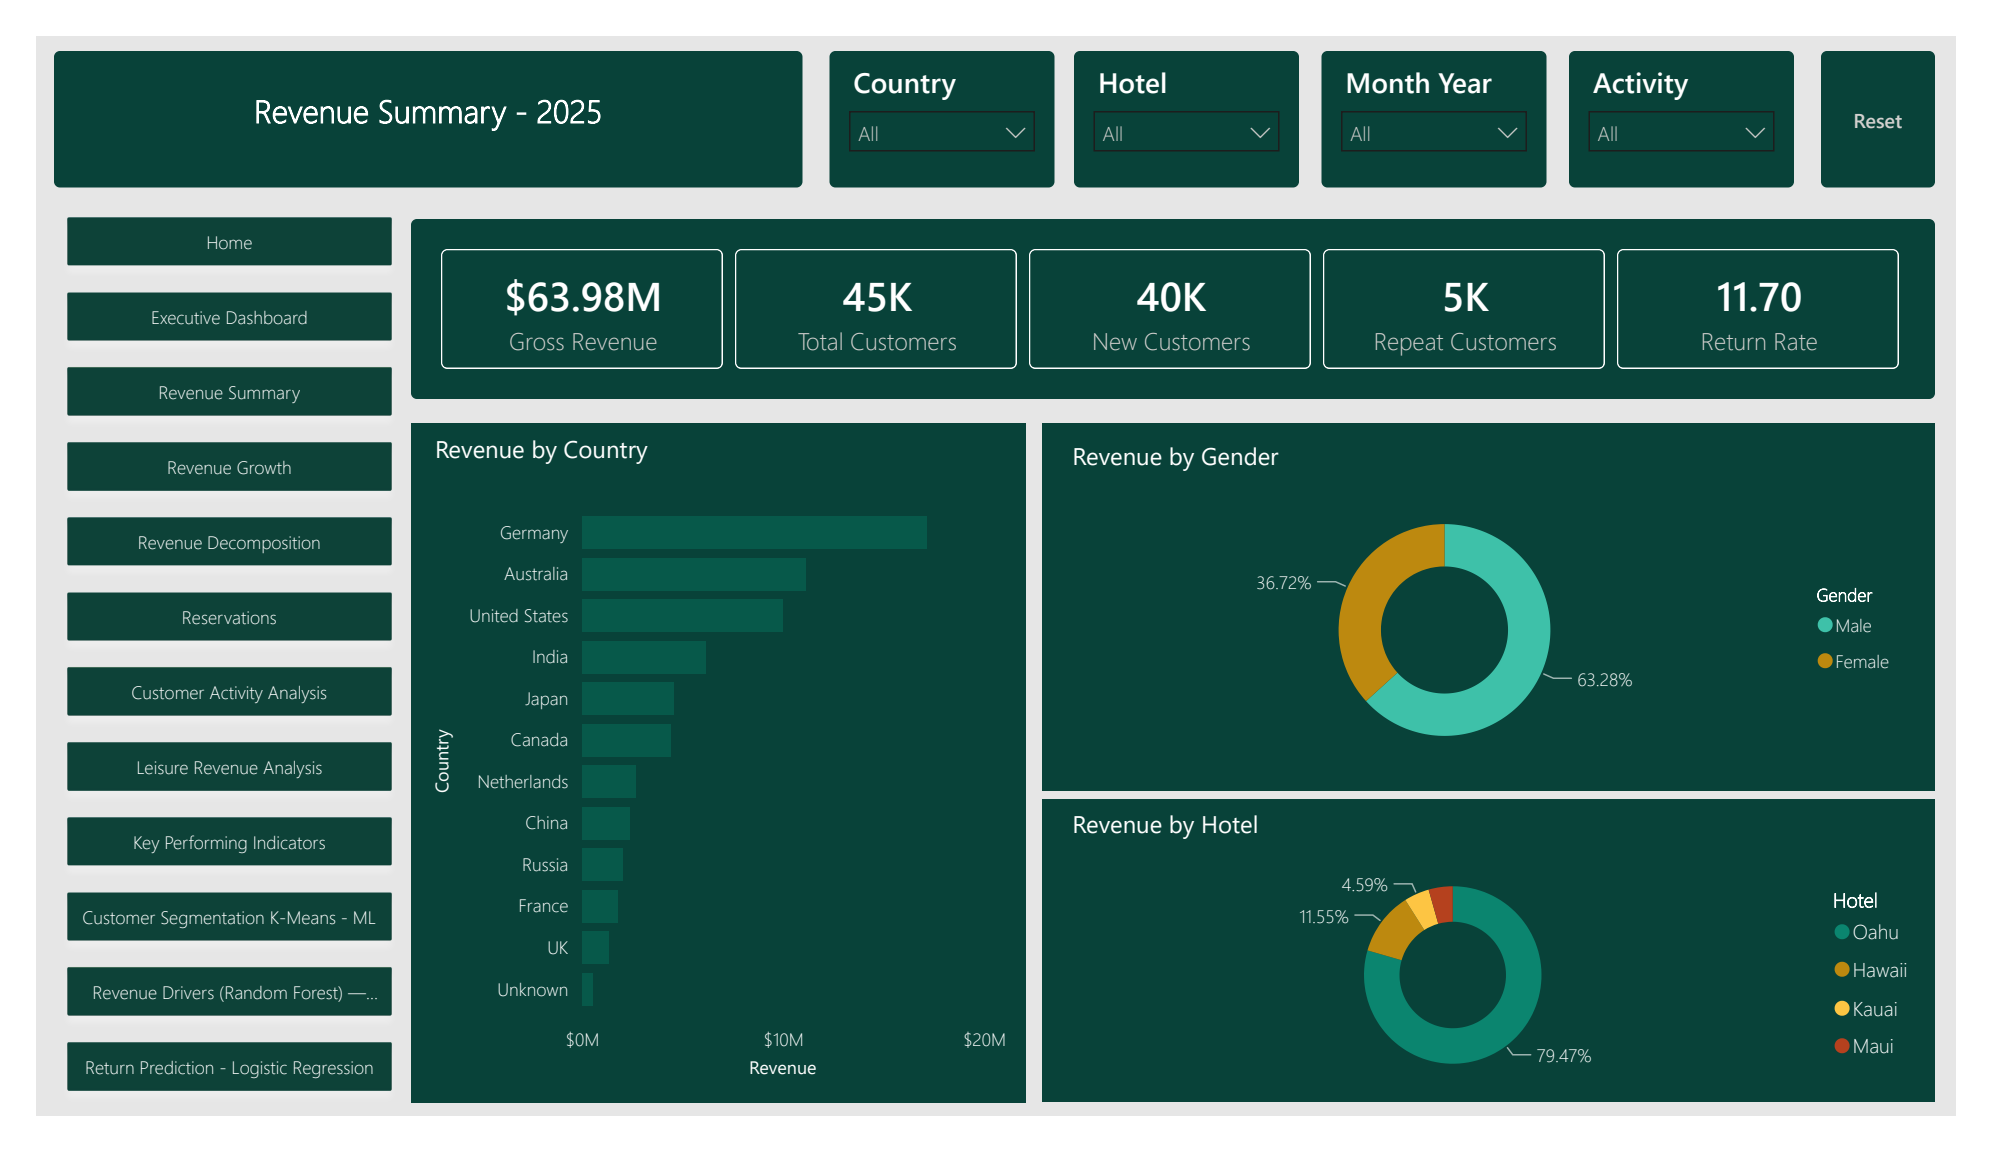

This screenshot's page, from the dashboard's own definition file:
{"tool":"powerbi","page":{"name":"Revenue Summary","canvas":[1280,720],"ordinal":2},"visuals":[{"type":"shape","box":[670.6,509,595.2,202],"z":0},{"type":"shape","box":[670.6,257.7,595.2,245.1],"z":1000},{"type":"shape","box":[250.5,257.7,409.4,453.4],"z":2000},{"type":"textbox","box":[11.7,9.9,499.2,90.7],"z":3000},{"type":"slicer","fields":{"Values":["Country.Country"]},"box":[528.8,9.9,150,90.7],"z":4000},{"type":"pageNavigator","box":[11.7,112.2,234.3,607.8],"z":5000},{"type":"slicer","fields":{"Values":["Hotel Visited.Hotel"]},"box":[692.2,9.9,150,90.7],"z":6000},{"type":"slicer","fields":{"Values":["Calender.MonthYear"]},"box":[857.4,9.9,150,90.7],"z":7000},{"type":"slicer","fields":{"Values":["Primary interest.Primary Interest"]},"box":[1021.6,9.9,150,90.7],"z":8000},{"type":"cardVisual","fields":{"Data":["Sum(Data.Revenue)","Calculations.Total Customers","Calculations.New Customers","Calculations.Repeat Customers","Calculations.Return Rate %"]},"box":[250.5,122.1,1015.4,120.3],"z":9000},{"type":"barChart","fields":{"Category":["Country.Country"],"Y":["Sum(Data.Revenue)"]},"box":[261.2,263.9,390.5,436.3],"z":10000},{"type":"donutChart","fields":{"Category":["Hotel Visited.Hotel"],"Y":["Sum(Data.Revenue)"]},"box":[685.9,514.4,576.4,191.2],"z":11000},{"type":"actionButton","box":[1189.5,9.9,76.3,90.7],"z":12000},{"type":"donutChart","title":"Revenue by Gender","fields":{"Category":["Gender.Gender"],"Y":["Sum(Data.Revenue)"]},"box":[685.9,269.3,564.7,221.7],"z":13000}]}

Visuals, with their boxes in screenshot pixels (x1, y1, x2, y2), scaled from the page's 1280x720 canvas onto the 1992x1152 screenshot:
shape: crop(1044, 814, 1970, 1138)
shape: crop(1044, 412, 1970, 804)
shape: crop(390, 412, 1027, 1138)
textbox: crop(18, 16, 795, 161)
slicer - Country.Country: crop(823, 16, 1056, 161)
pageNavigator: crop(18, 180, 383, 1151)
slicer - Hotel Visited.Hotel: crop(1077, 16, 1311, 161)
slicer - Calender.MonthYear: crop(1334, 16, 1568, 161)
slicer - Primary interest.Primary Interest: crop(1590, 16, 1823, 161)
cardVisual - Sum(Data.Revenue) x Calculations.Total Customers: crop(390, 195, 1970, 388)
barChart - Country.Country x Sum(Data.Revenue): crop(406, 422, 1014, 1120)
donutChart - Hotel Visited.Hotel x Sum(Data.Revenue): crop(1067, 823, 1964, 1129)
actionButton: crop(1851, 16, 1970, 161)
"Revenue by Gender" donutChart: crop(1067, 431, 1946, 786)
